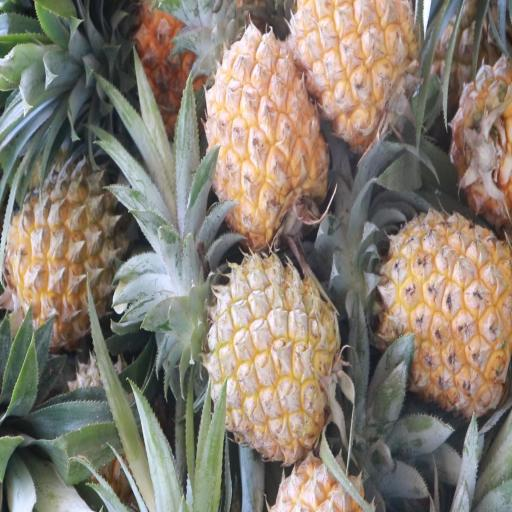------------------------------: (0, 165, 125, 343)
Pineapple - v8 v1: (208, 250, 339, 465), (382, 200, 511, 415), (202, 27, 329, 238), (292, 3, 422, 141)
